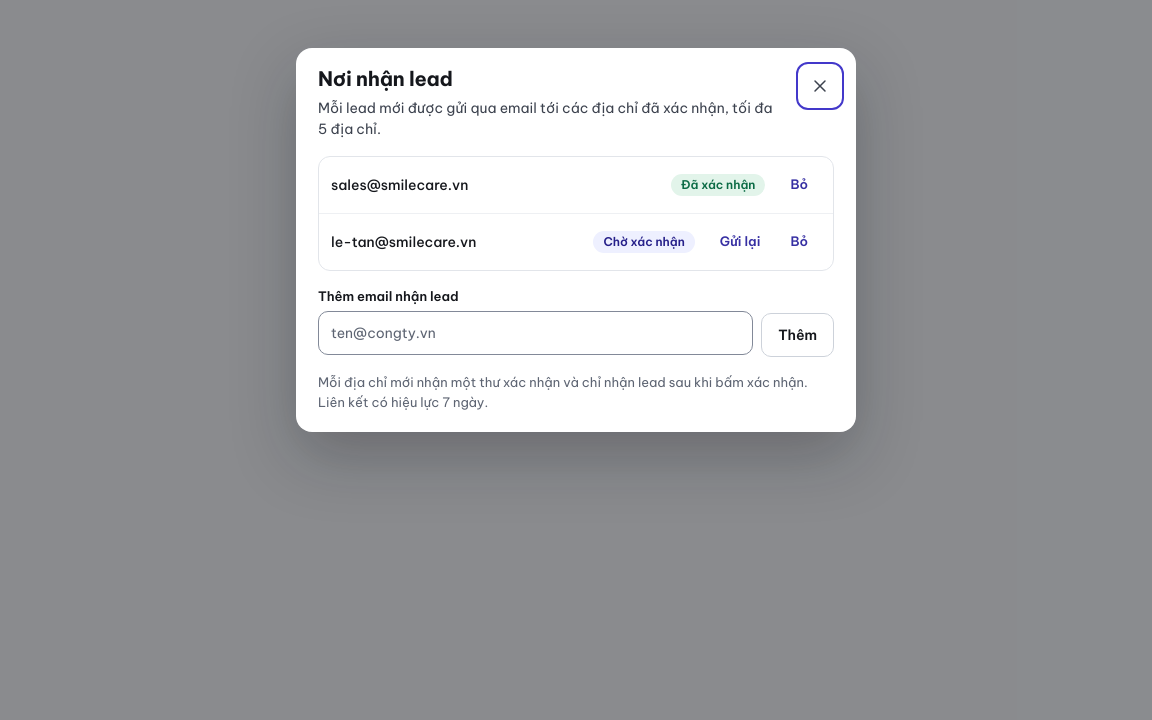
Scenario: LeadRecipientsDialog › sends a new link and removes an address
The width and height of the screenshot is (1152, 720).
Click the button with aria-label "Gửi lại thư xác nhận tới le-tan@smilecare.vn" at (740, 242), box x1=707 y1=224 x2=773 y2=260
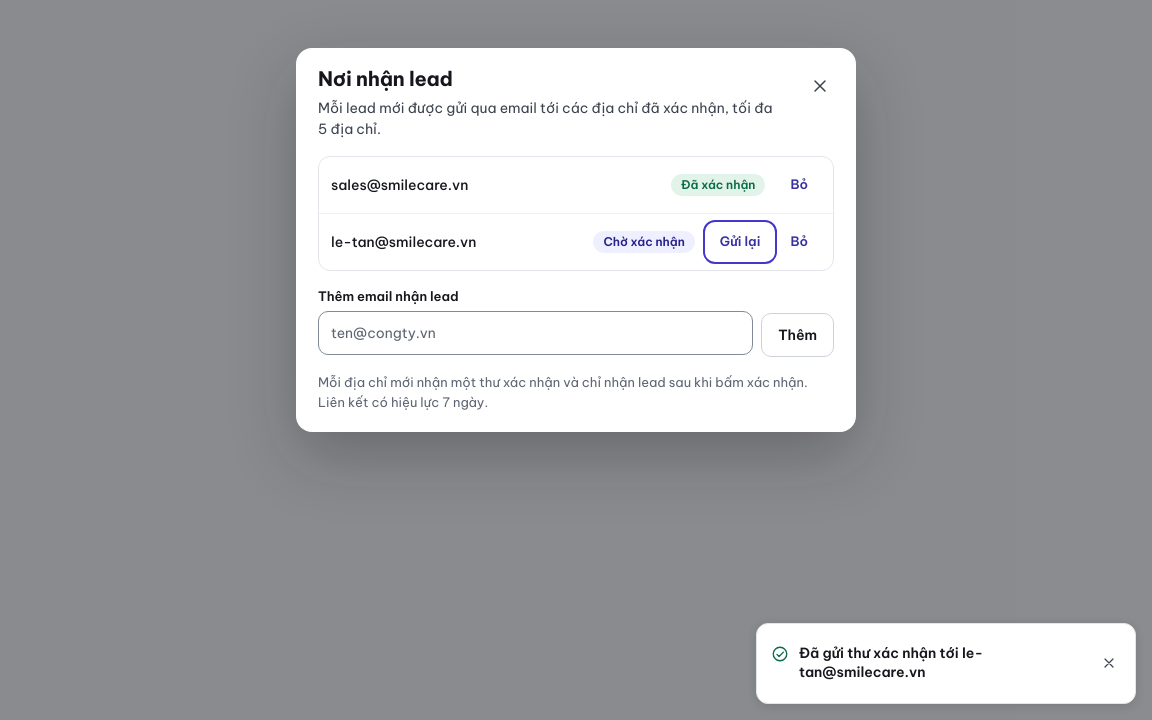
Click the button with aria-label "Bỏ sales@smilecare.vn khỏi nơi nhận lead" at (799, 185), box x1=777 y1=167 x2=821 y2=203
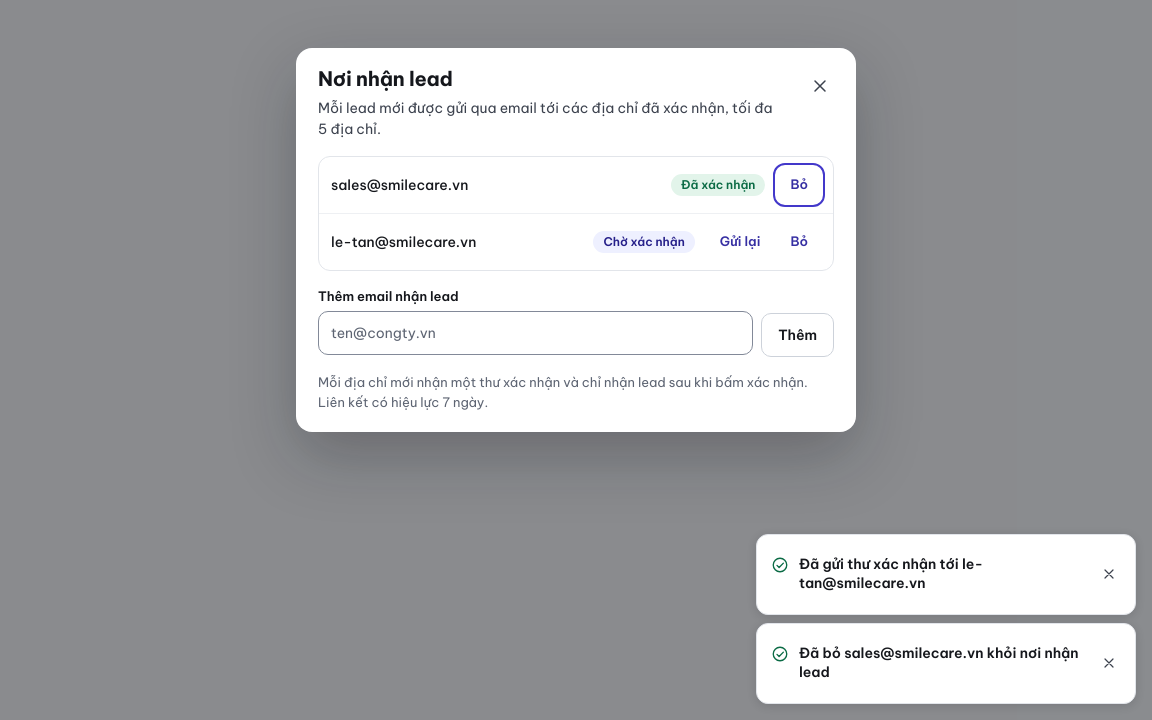
Expected: the text "Đã bỏ sales@smilecare.vn khỏi nơi nhận lead" is shown, x1=799 y1=644 x2=1079 y2=683
